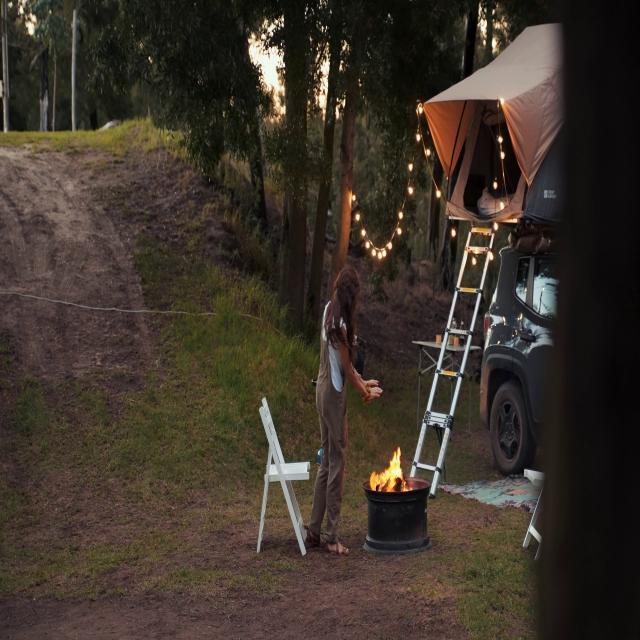Fire: (372, 438, 407, 494)
